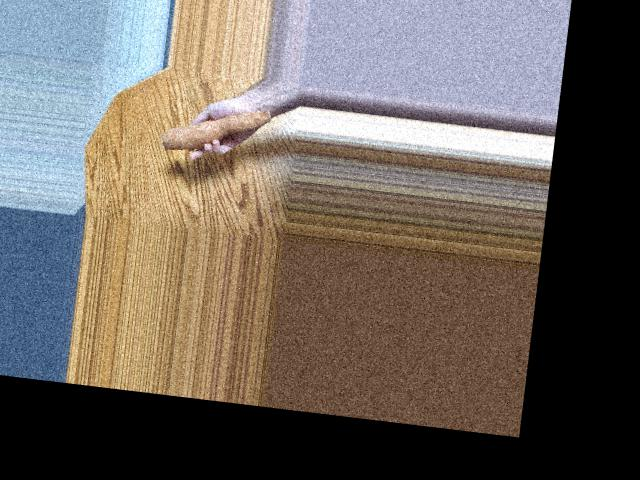sweet_potato: (160, 96, 275, 164)
